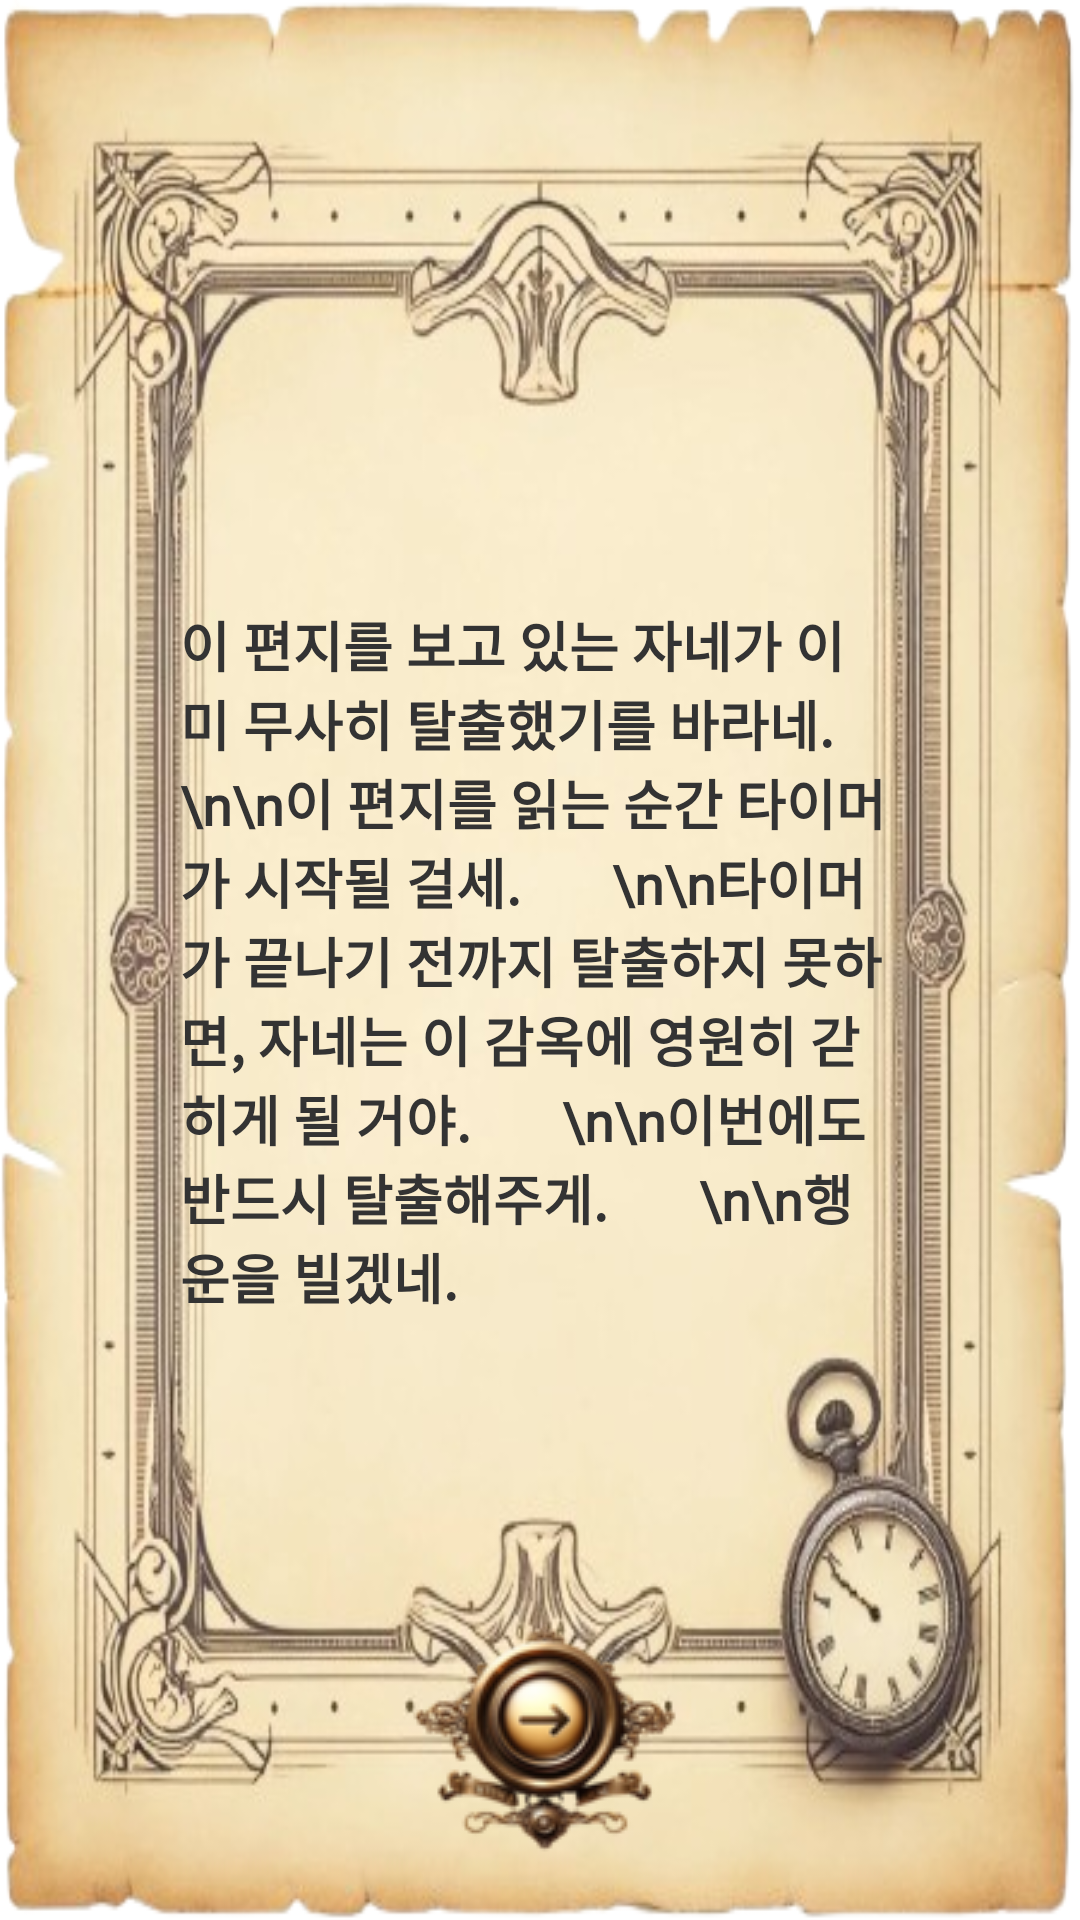

Point at icon controls on the screen. Image size 1080*1920, points as point (x, y).
Next: point (540, 1722)
